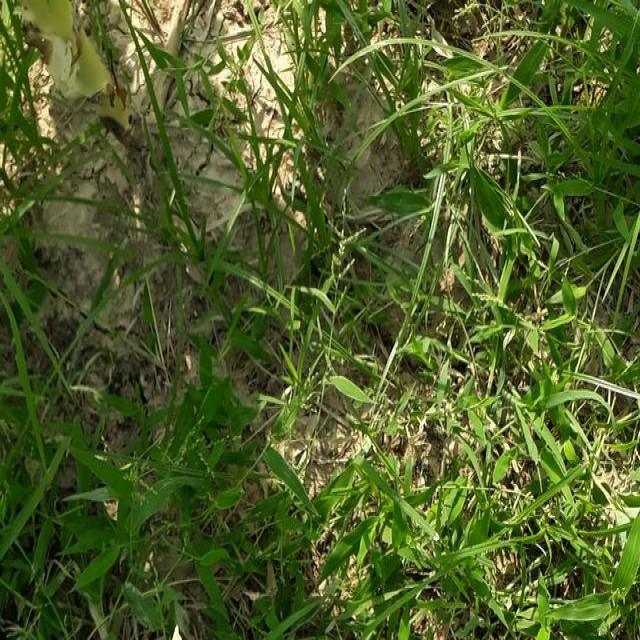weed: (0, 216, 281, 640), (382, 0, 637, 377), (295, 424, 640, 640)
